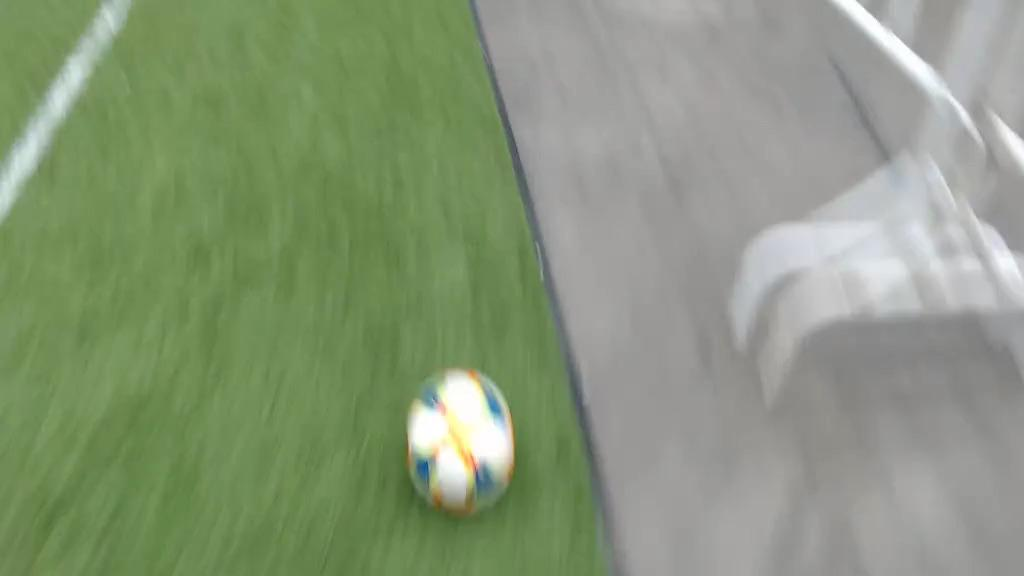ball: (409, 369, 513, 513)
